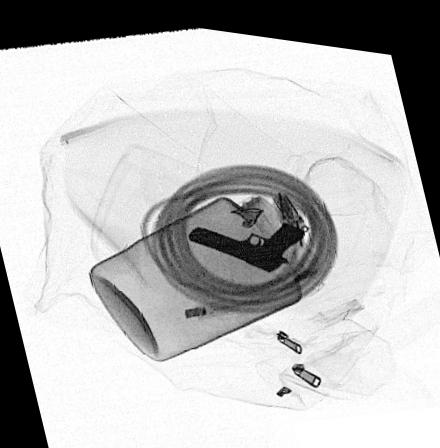Gun: (185, 212, 304, 265)
